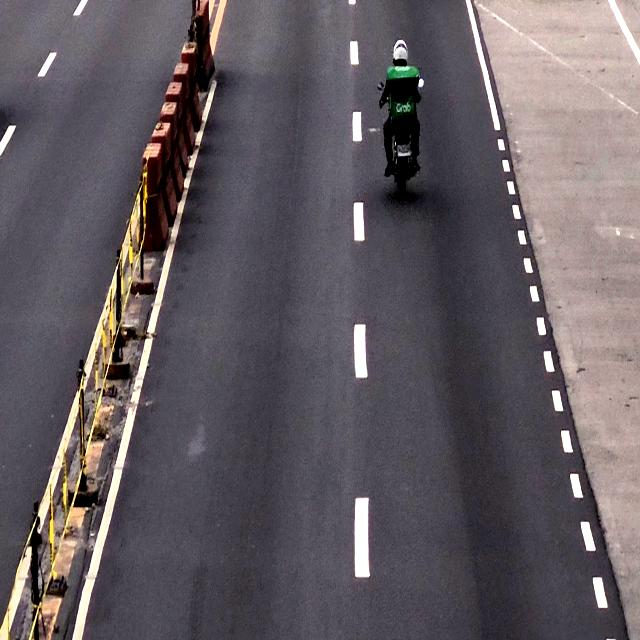License-Plate: (396, 143, 413, 158)
Motorcycle: (382, 38, 419, 196)
